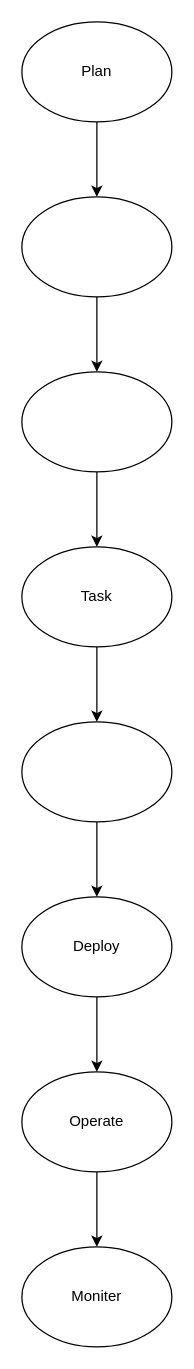
Image size: 194x1369. Some labels were removed from this diagram. The box of each missing label's shape, as (x1, y1, x2, y2) in pixels:
Build: (21, 371, 172, 472)
Develop: (21, 196, 172, 297)
Relese: (21, 721, 172, 822)
